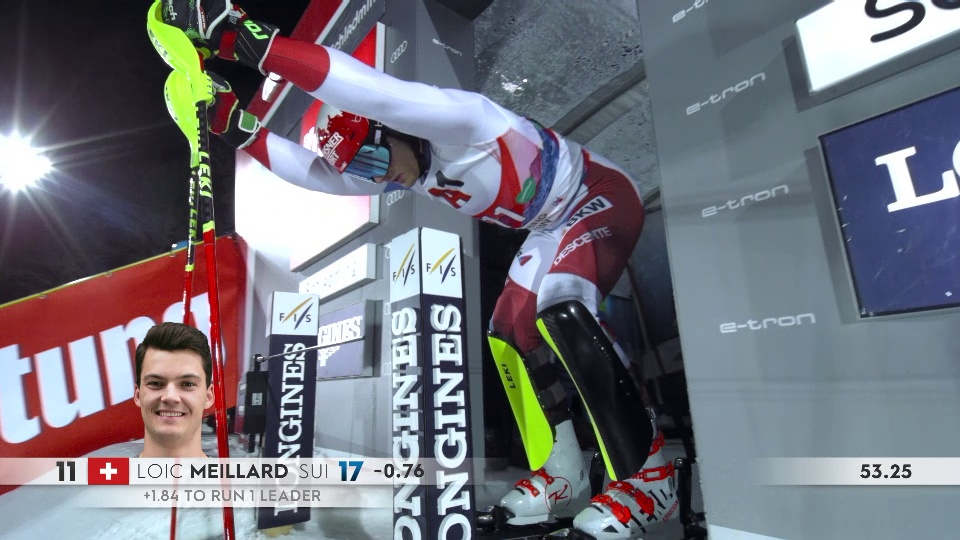a1: (427, 174, 476, 213), (514, 247, 540, 271)
etron: (675, 68, 779, 116), (693, 183, 803, 219), (710, 309, 826, 335)
kronenzeitung: (2, 281, 188, 442)
longines: (387, 299, 468, 540), (262, 319, 311, 538)
